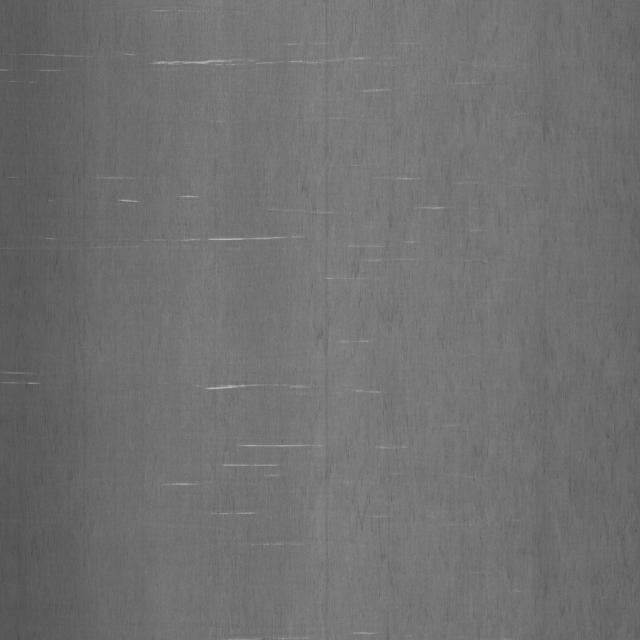punching_hole: (112, 51, 480, 544)
